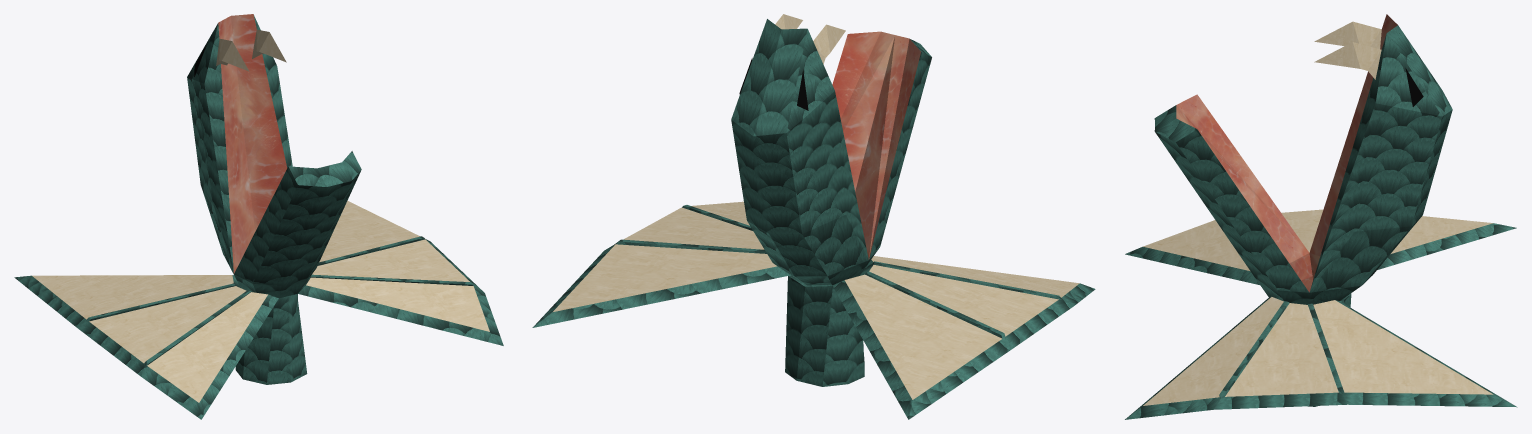
File: head.fbx
The picture shows the model from 3 angles, left to right: view 1: azimuth 30°, elevation 25°; view 2: azimuth 150°, elevation 25°; view 3: azimuth 270°, elevation 25°; orthographic projection. The views are drawn at different scales.
Visible parts, largest first — view 1: SerpentHead, Eyes; view 2: SerpentHead, Eyes; view 3: SerpentHead, Eyes.
Boxes of the visible parts, left/top/right/bottom form: SerpentHead: left=14, top=14, right=503, bottom=419; Eyes: left=194, top=29, right=286, bottom=76; SerpentHead: left=532, top=19, right=1095, bottom=419; Eyes: left=739, top=14, right=845, bottom=110; SerpentHead: left=1125, top=14, right=1517, bottom=419; Eyes: left=1314, top=21, right=1423, bottom=106.
Bounding box in the file's own units: 2103 × 1862 × 1803.
